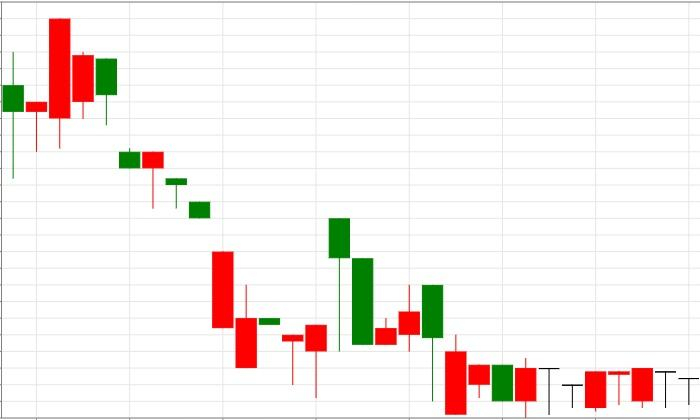bearish_engulfing_fall: (351, 257, 444, 401)
hanging_man_fall: (282, 218, 351, 397)
